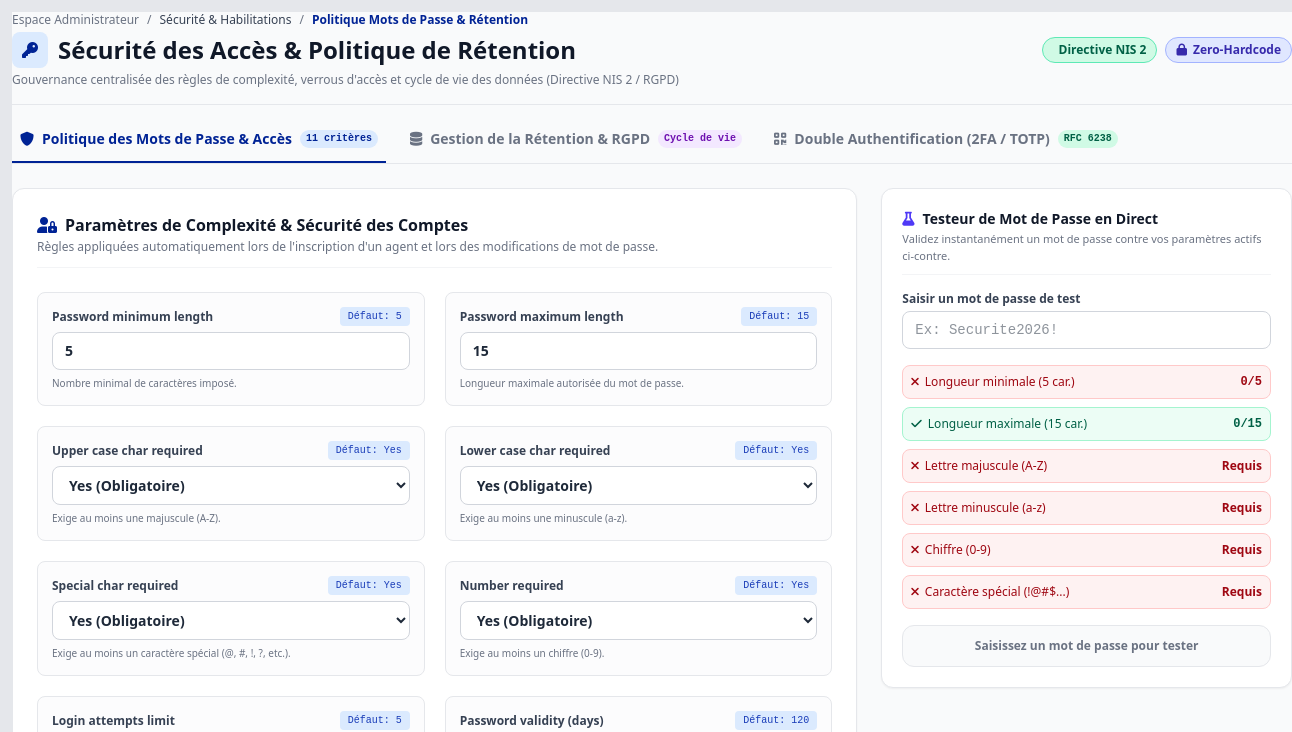
AdminSecuriteMotsDePasse - Access Settings & Retention Tab › interactively validates password strength against the active policy
Note: Invalid password: too short and missing uppercase/special
Type "abc" into the field with placeholder "Ex: Securite2026!" at [1087, 330], box [902,311,1271,349]
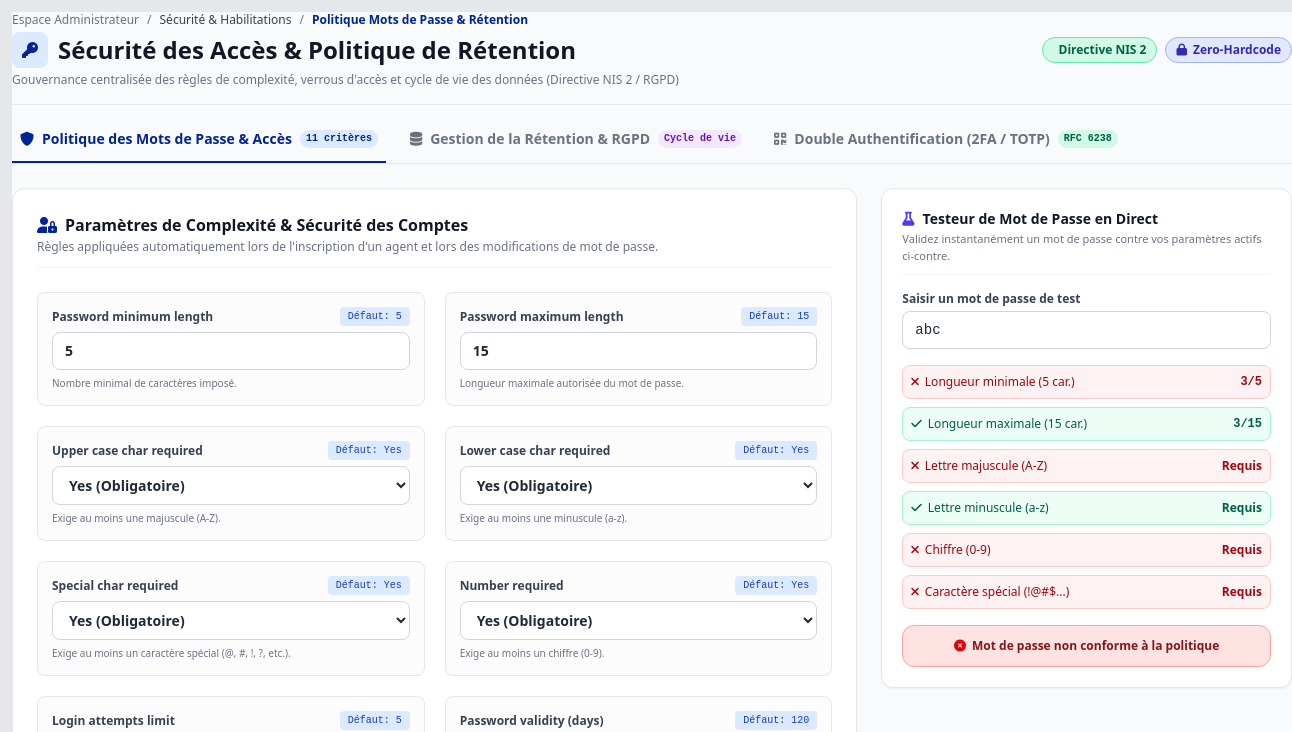
Expected: the text "Mot de passe non conforme à la politique" is shown, [954,637,1219,654]
Note: Valid password: length 13, contains uppercase, lowercase, digit, special
Replace the text in the field with placeholder "Ex: Securite2026!" with "Securite2026!" at [1087, 330], box [902,311,1271,349]
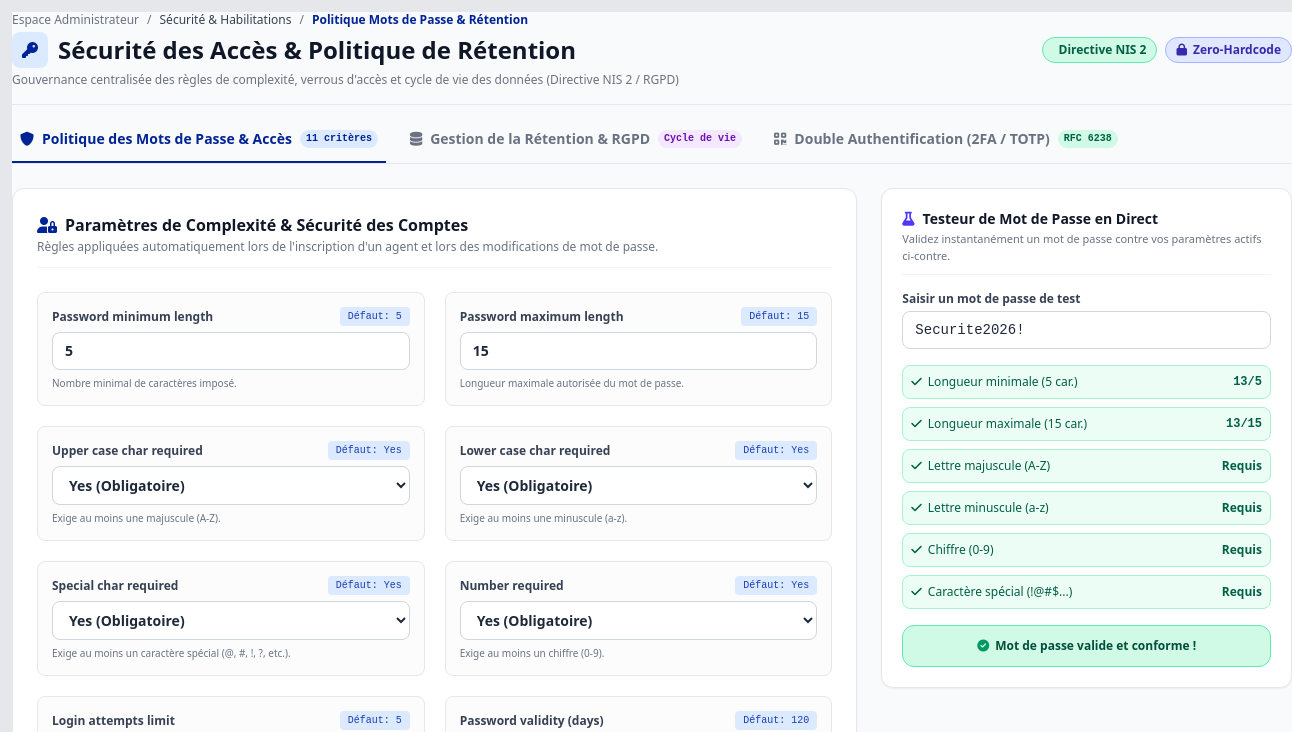
Expected: the text "Mot de passe valide et conforme !" is shown, [977,637,1196,654]
